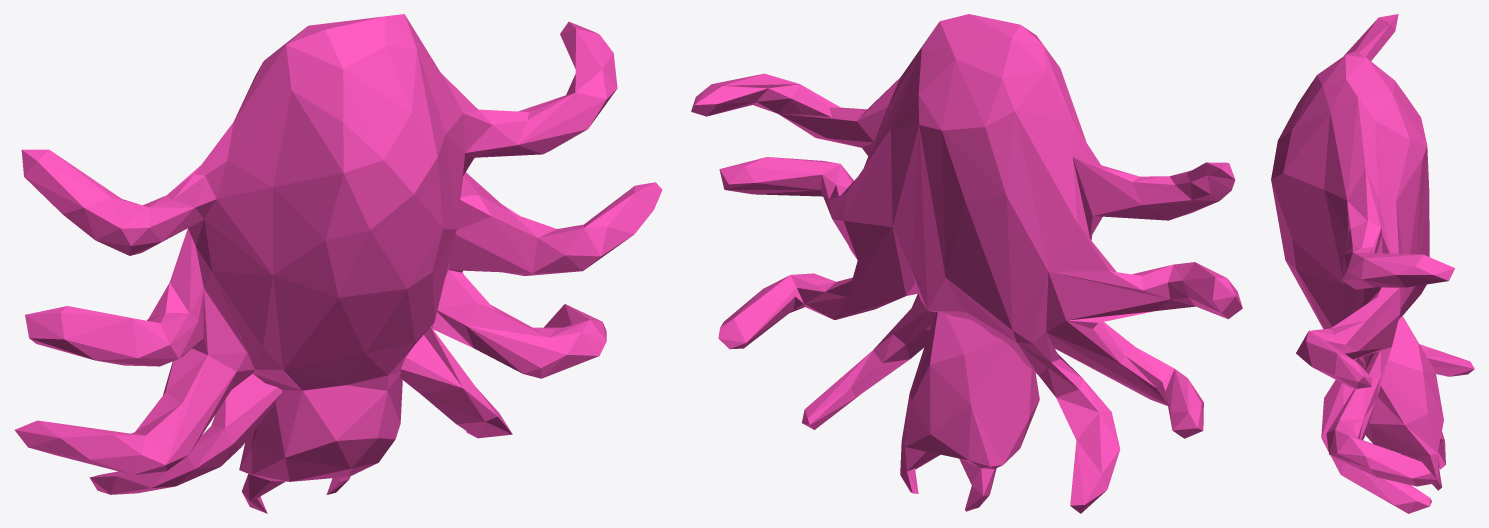
The model's file is aranya2_000011.obj.
3 renders of one model, left to right at view 1: azimuth 30°, elevation 25°; view 2: azimuth 150°, elevation 25°; view 3: azimuth 270°, elevation 25°, orthographic. The views are drawn at different scales.
Visible parts, largest first — view 1: Cube; view 2: Cube; view 3: Cube.
Part boxes in pixels (x1,y1,x2,y2): Cube: (15, 14, 662, 513); Cube: (691, 14, 1242, 513); Cube: (1271, 14, 1474, 513).
Bounding box in the file's own units: 20.86 × 16.91 × 7.56.
Materials: 1 (1 with a texture image).
